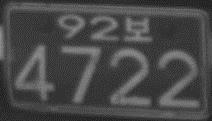2: (109, 45, 152, 108), (157, 48, 201, 109), (89, 14, 119, 41)
4: (13, 44, 55, 102)
7: (59, 44, 101, 104)
9: (55, 12, 87, 40)
보: (122, 15, 152, 43)
